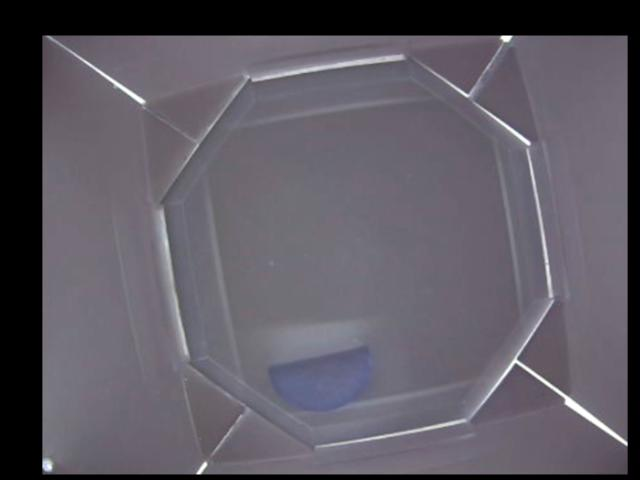Mooli: (267, 340, 369, 409)
